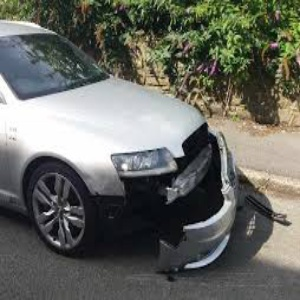bumper: (134, 130, 252, 266)
